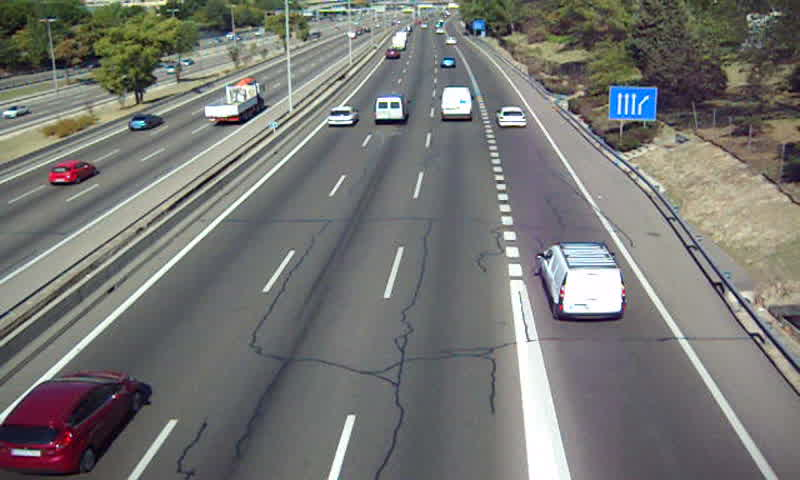car: (1, 370, 137, 472), (325, 107, 358, 130), (495, 106, 526, 127)
van: (538, 244, 627, 321), (374, 93, 412, 121), (442, 88, 473, 119)
